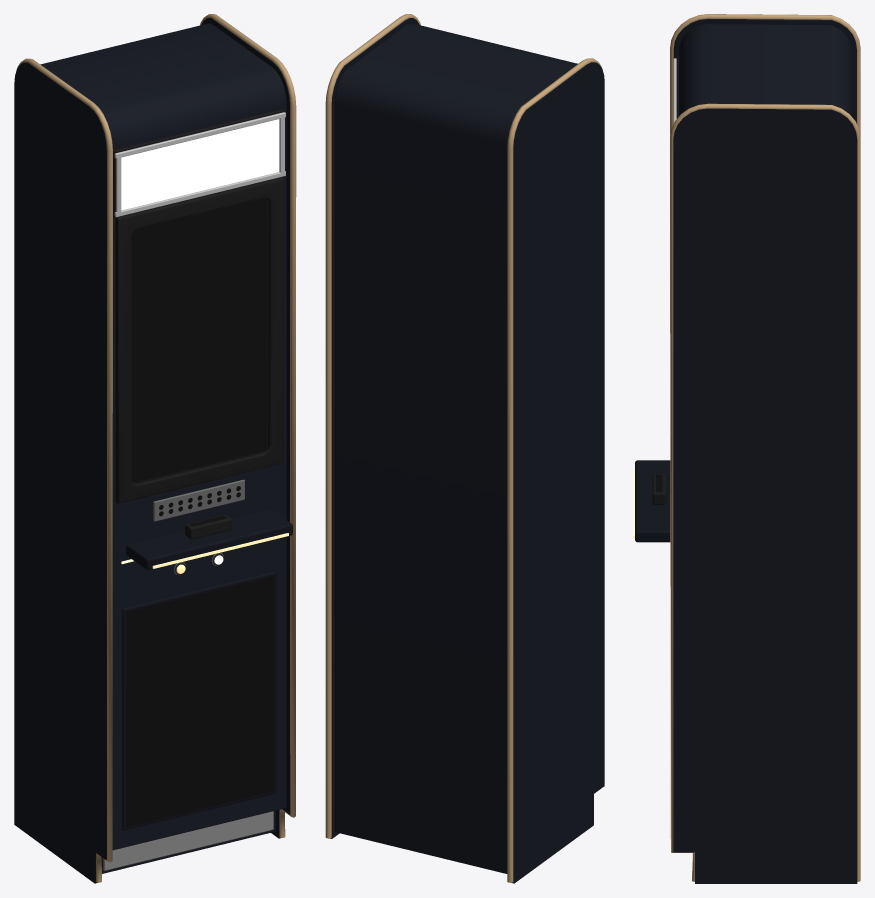
File: mach-safeplate.glb
The picture shows the model from 3 angles, left to right: view 1: azimuth 30°, elevation 25°; view 2: azimuth 150°, elevation 25°; view 3: azimuth 270°, elevation 25°; orthographic projection.
Parts seen in each view (by area): view 1: side_art_l, body, screen, front_art, glass, controls, trim, marquee, metal, speaker; view 2: body, side_art_l, trim; view 3: side_art_r, body, trim, controls.
Part boxes in pixels (x1=…): side_art_l: x1=14, y1=62, x2=106, y2=883; body: x1=27, y1=18, x2=290, y2=883; screen: x1=131, y1=198, x2=267, y2=482; front_art: x1=126, y1=576, x2=274, y2=827; glass: x1=132, y1=198, x2=268, y2=483; controls: x1=113, y1=109, x2=292, y2=570; trim: x1=17, y1=14, x2=296, y2=882; marquee: x1=121, y1=119, x2=279, y2=210; metal: x1=103, y1=112, x2=285, y2=870; speaker: x1=153, y1=479, x2=244, y2=521; body: x1=330, y1=18, x2=591, y2=883; side_art_l: x1=514, y1=62, x2=604, y2=883; trim: x1=325, y1=14, x2=602, y2=882; side_art_r: x1=673, y1=108, x2=857, y2=883; body: x1=673, y1=19, x2=856, y2=126; trim: x1=670, y1=14, x2=860, y2=881; controls: x1=633, y1=56, x2=678, y2=542.
Bounding box in the file's own units: 0.503 × 1.96 × 0.5185.
